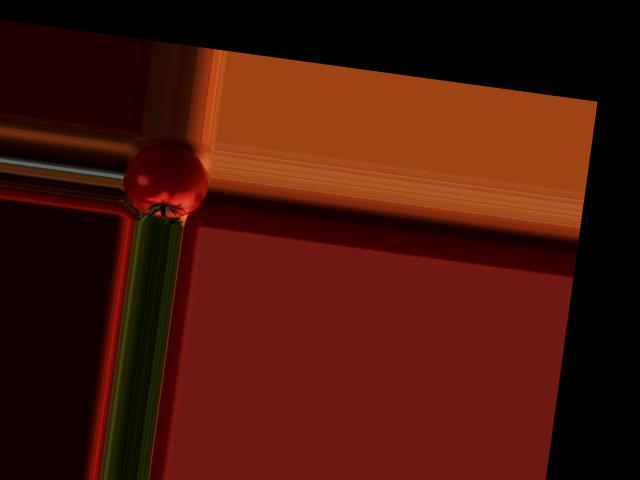tomato: (119, 138, 213, 222)
